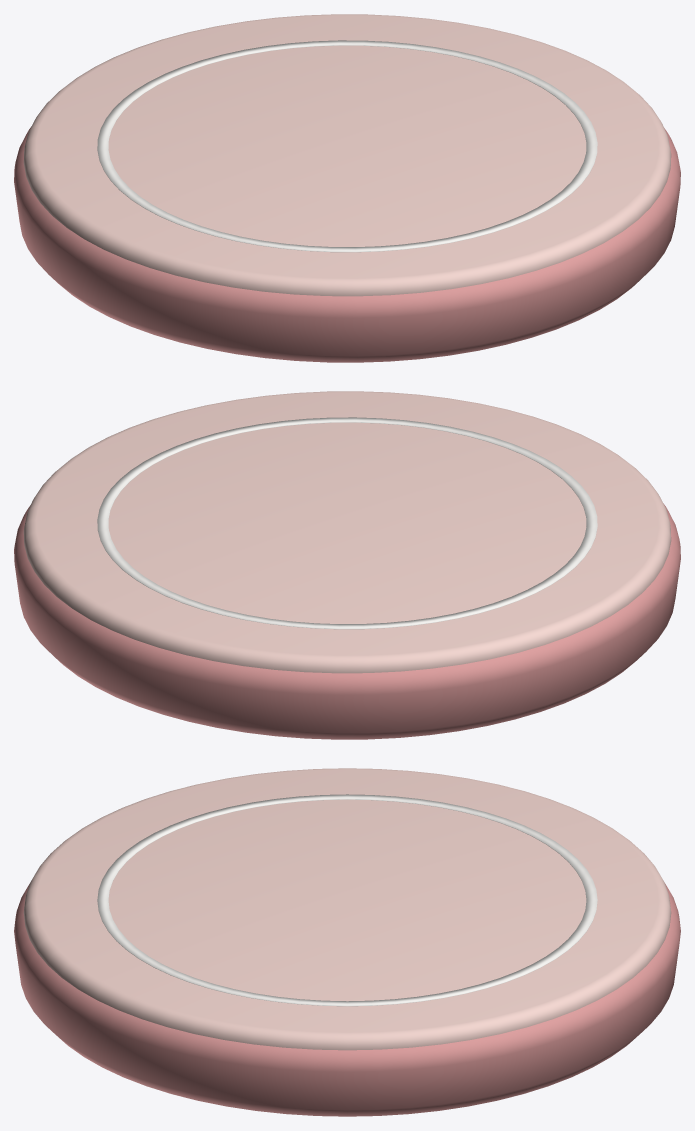
Rendered from studio.glb.
3 views of the same model, one above another, from view 1: azimuth 30°, elevation 25°; view 2: azimuth 150°, elevation 25°; view 3: azimuth 270°, elevation 25° (orthographic).
Parts seen in each view (by area): view 1: floor, slab, ring; view 2: floor, slab, ring; view 3: floor, slab, ring.
Boxes of the visible parts, bbox=[...] form: floor: bbox=[23, 14, 671, 296]; slab: bbox=[14, 126, 680, 362]; ring: bbox=[97, 40, 597, 252]; floor: bbox=[23, 391, 671, 673]; slab: bbox=[14, 503, 680, 739]; ring: bbox=[97, 417, 597, 629]; floor: bbox=[23, 768, 671, 1050]; slab: bbox=[14, 883, 680, 1116]; ring: bbox=[97, 794, 597, 1006].
Size of the model in its own units: 2.4 by 0.343 by 2.4.
